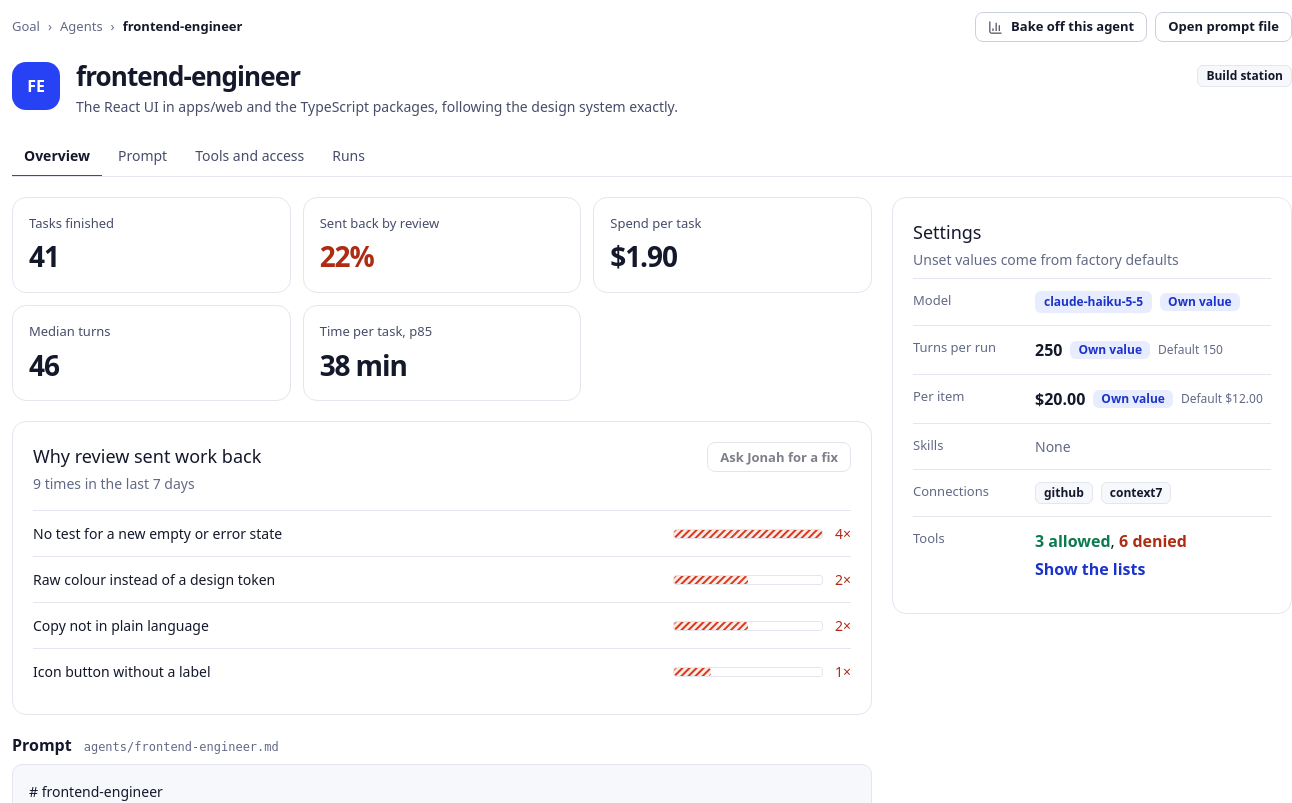
Scenario: Bake off this agent › shows a network failure in place, and says nothing started
Check: the heading "frontend-engineer" is shown, box [76,58,300,94]
Click the button "Bake off this agent": x=1061, y=27 [975,12,1147,42]
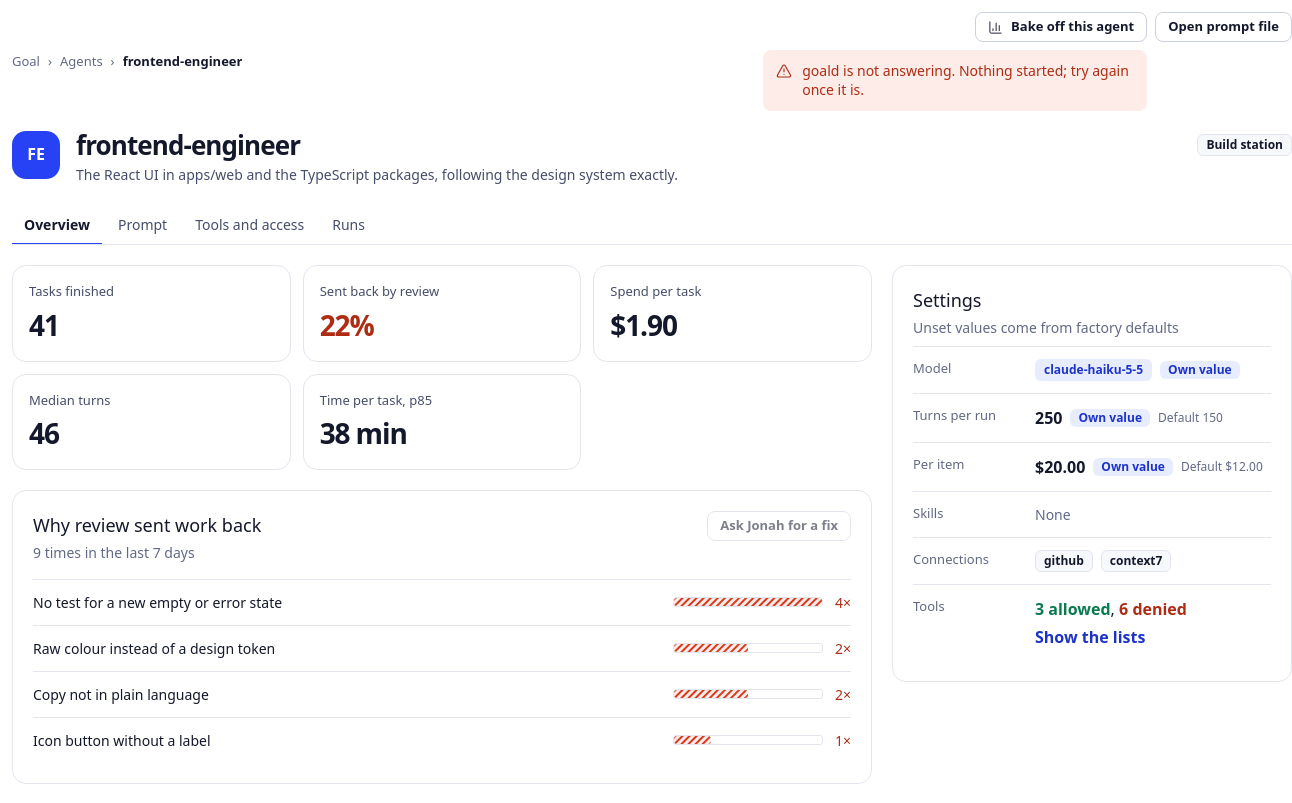
Check: the text "goald is not answering. Nothing started; try again once it is." is shown, box [802,61,1134,100]
